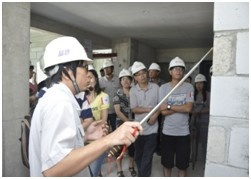white: (44, 35, 92, 94), (168, 56, 186, 82), (130, 60, 148, 84), (117, 68, 133, 89), (146, 61, 161, 79), (192, 72, 207, 90), (102, 59, 114, 77)
